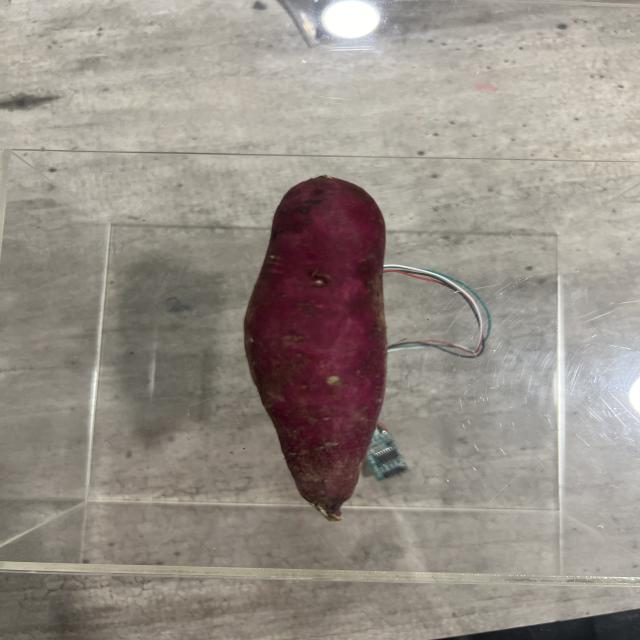sweet potato: (244, 173, 387, 527)
